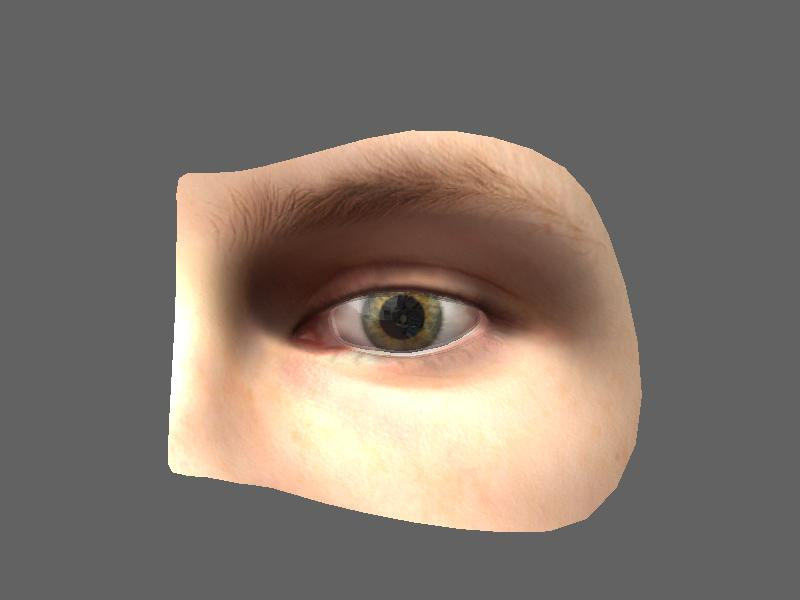iris: (346, 287, 447, 351)
